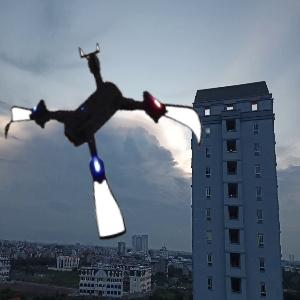drone: (4, 40, 210, 246)
